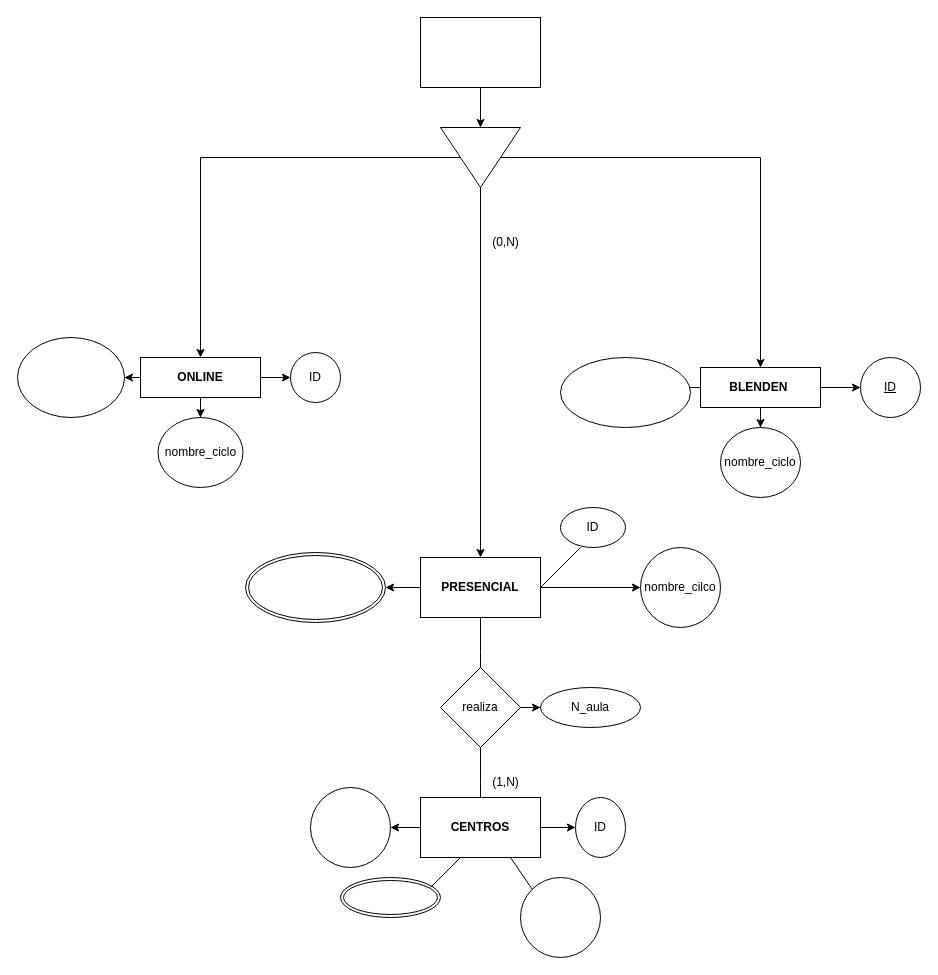
Some shapes in this 938 by 975 pixel diagram are drawn without their labels. The box of each missing label's shape, as (x1, y1, x2, y2) in pixels:
CICLOS: (420, 16, 540, 88)
ciudad: (310, 786, 390, 868)
diferentes_ dias_en_los_que_ se_imparte: (244, 552, 386, 622)
direccion: (520, 876, 600, 958)
N_horas_presenciales: (560, 356, 690, 428)
N_total_tuturias: (16, 336, 124, 418)
telefonos: (340, 876, 440, 918)
